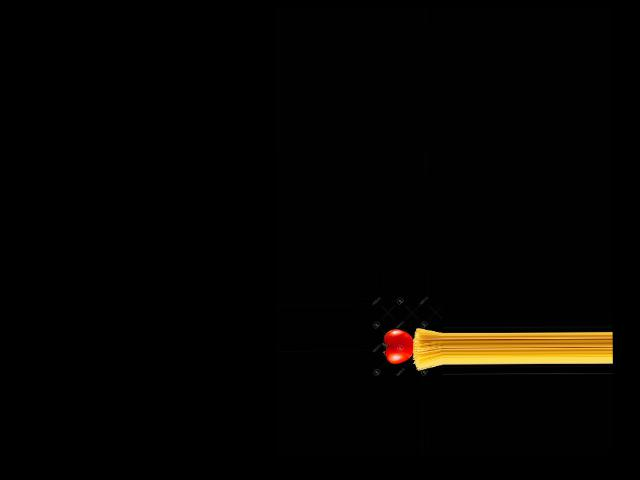tomato: (384, 329, 413, 364)
